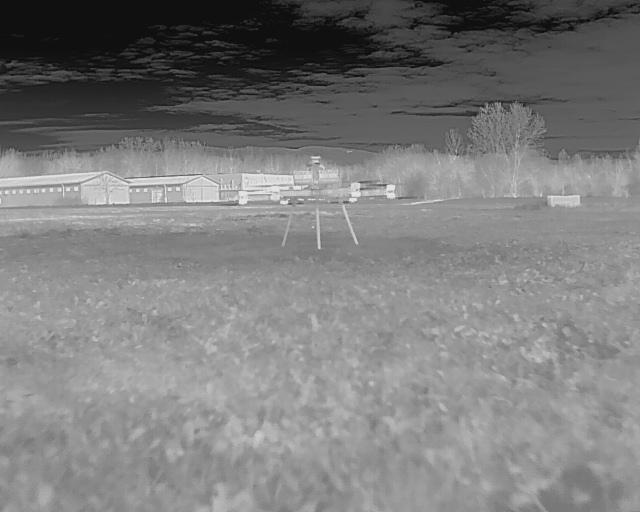drone: (212, 151, 423, 265)
